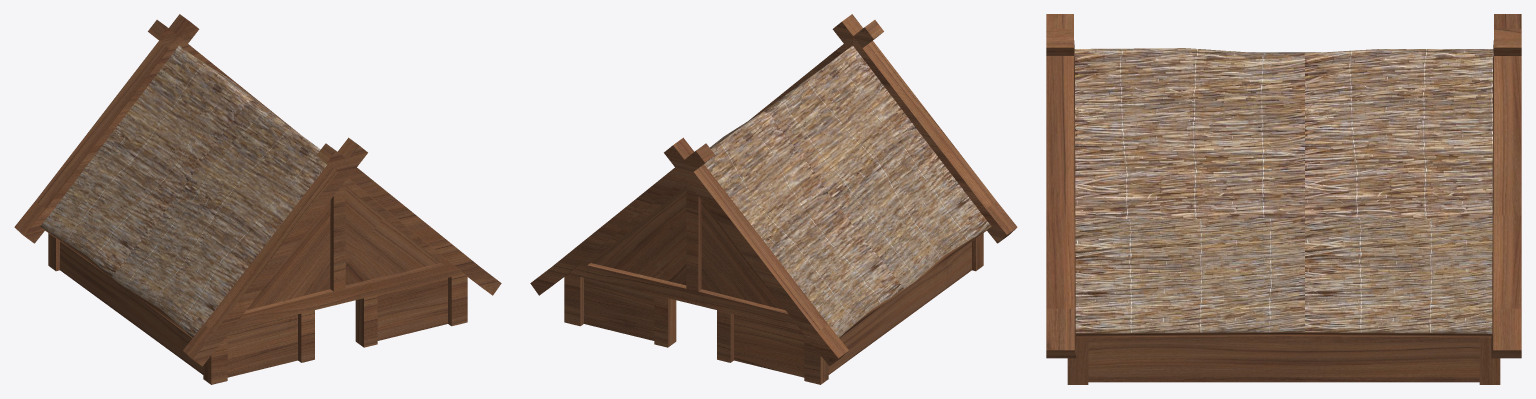
The model's file is Viking-House.fbx.
The picture shows the model from 3 angles, left to right: view 1: azimuth 30°, elevation 25°; view 2: azimuth 150°, elevation 25°; view 3: azimuth 270°, elevation 25°; orthographic projection. The views are drawn at different scales.
Visible parts, largest first — view 1: Cube, Cube.001; view 2: Cube, Cube.001; view 3: Cube.001, Cube.
Boxes of the visible parts, bbox=[...] form: Cube: bbox=[14, 14, 501, 384]; Cube.001: bbox=[40, 45, 327, 337]; Cube: bbox=[530, 14, 1017, 384]; Cube.001: bbox=[704, 45, 991, 337]; Cube.001: bbox=[1074, 48, 1493, 337]; Cube: bbox=[1046, 14, 1521, 384].
Bounding box in the file's own units: 1240 × 814 × 1250.
